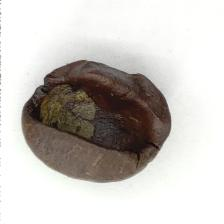NG: (23, 73, 156, 159)
